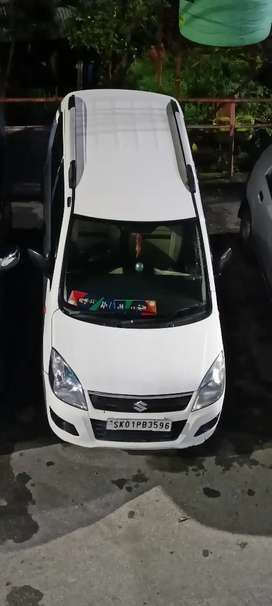SK01PB3596: (105, 418, 173, 431)
